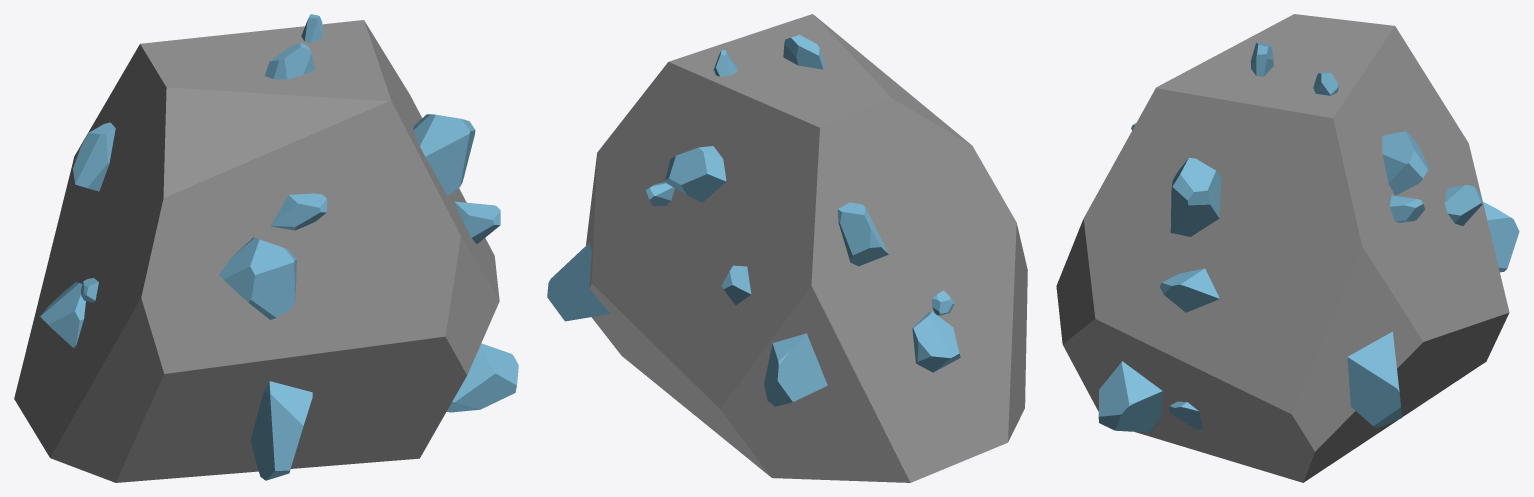
Rendered from diamond ore.fbx.
3 views of the same model, side by side, from view 1: azimuth 30°, elevation 25°; view 2: azimuth 150°, elevation 25°; view 3: azimuth 270°, elevation 25° (orthographic). The views are drawn at different scales.
Visible parts, largest first — view 1: Iron_Ore1; view 2: Iron_Ore1; view 3: Iron_Ore1.
Part boxes in pixels (x1,y1,x2,y2): Iron_Ore1: (14, 14, 518, 482); Iron_Ore1: (547, 14, 1027, 482); Iron_Ore1: (1056, 14, 1519, 482).
Bounding box in the file's own units: 2.02 × 1.57 × 1.84.
